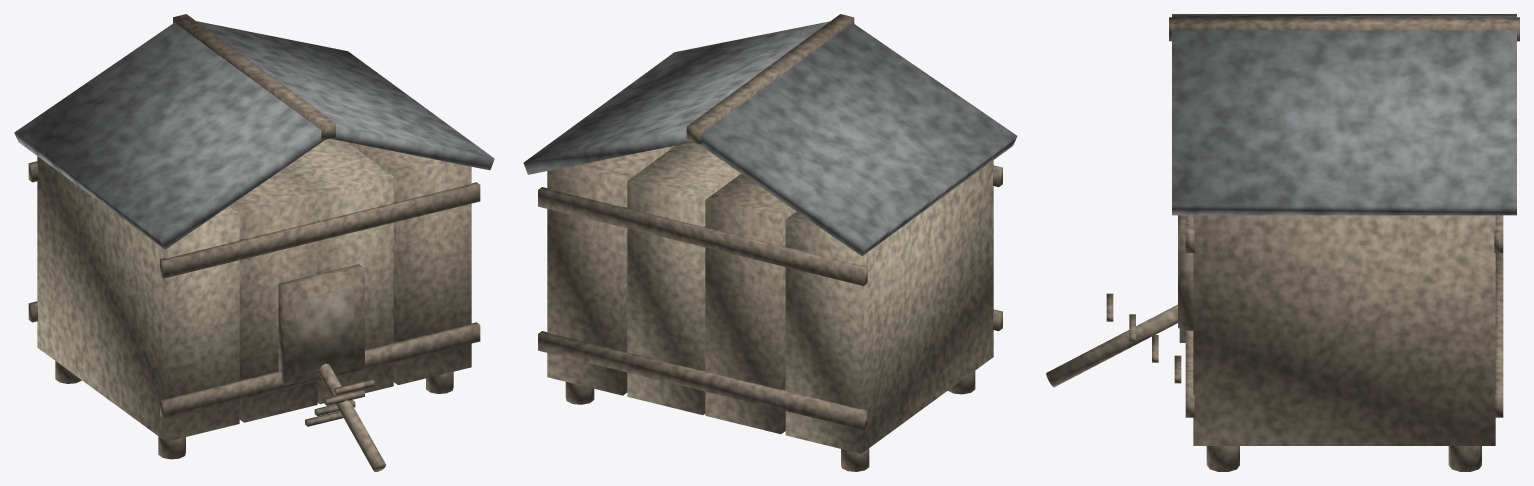
The model's file is prop_kandang_ayam.obj.
3 views of the same model, side by side, from view 1: azimuth 30°, elevation 25°; view 2: azimuth 150°, elevation 25°; view 3: azimuth 270°, elevation 25° (orthographic). The views are drawn at different scales.
Visible parts, largest first — view 1: prop_kandang_ayam; view 2: prop_kandang_ayam; view 3: prop_kandang_ayam.
Boxes of the visible parts, box(x1,y1,x2,y2) form: prop_kandang_ayam: box(14, 14, 494, 471); prop_kandang_ayam: box(523, 14, 1017, 471); prop_kandang_ayam: box(1046, 14, 1519, 471).
Size of the model in its own units: 1.5 by 1.34 by 1.57.
Materials: 1 (1 with a texture image).
